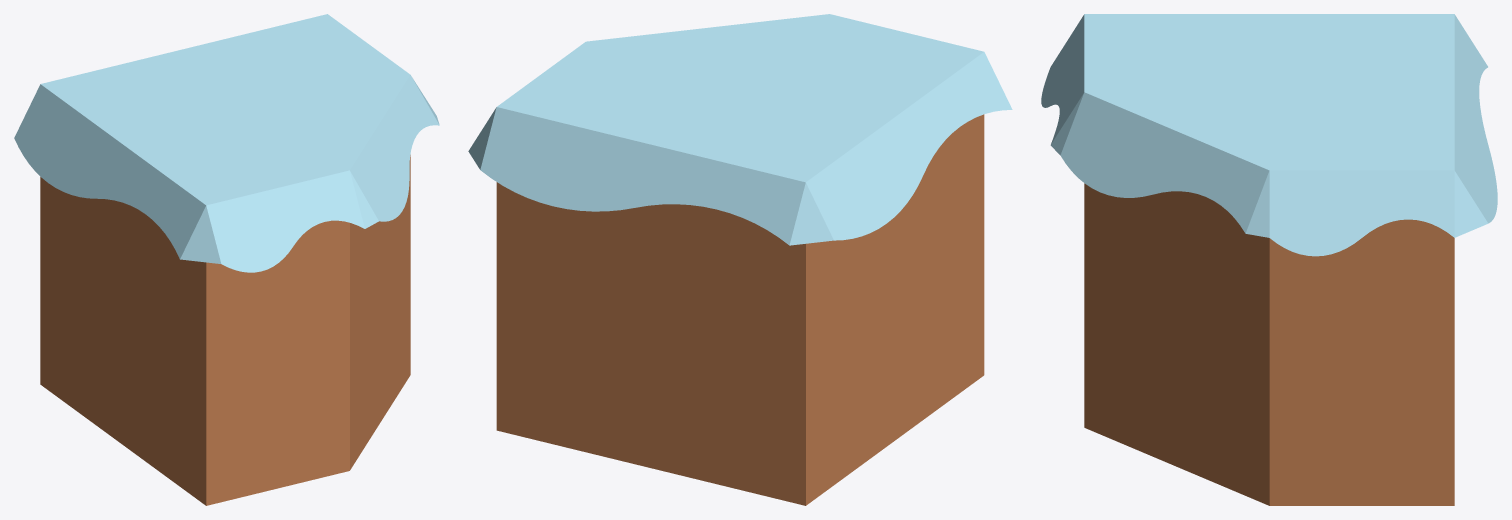
File: blockSnowCornerSmall.dae
The picture shows the model from 3 angles, left to right: view 1: azimuth 30°, elevation 25°; view 2: azimuth 150°, elevation 25°; view 3: azimuth 270°, elevation 25°; orthographic projection. The views are drawn at different scales.
Visible parts, largest first — view 1: blockSnowCornerSmall; view 2: blockSnowCornerSmall; view 3: blockSnowCornerSmall.
Part boxes in pixels (x1=…): blockSnowCornerSmall: x1=14, y1=14, x2=439, y2=505; blockSnowCornerSmall: x1=468, y1=14, x2=1012, y2=505; blockSnowCornerSmall: x1=1041, y1=14, x2=1497, y2=505.
Bounding box in the file's own units: 1.23 × 1 × 1.23.
